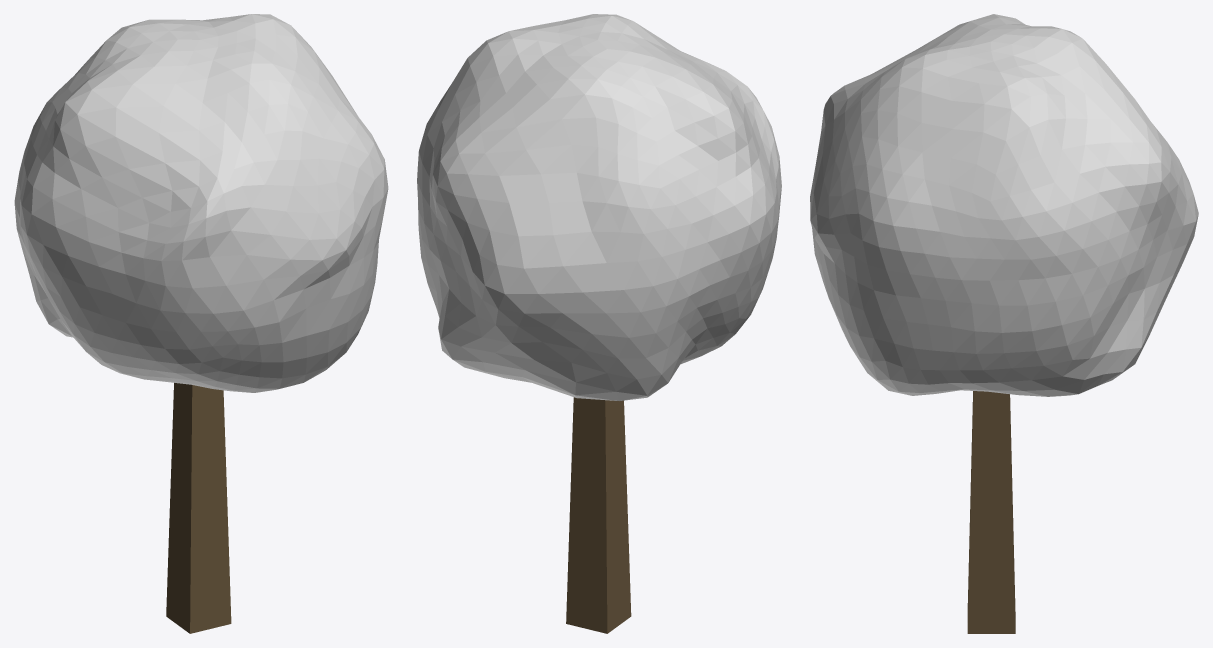
Rendered from small-tree-2.glb.
3 renders of one model, left to right at view 1: azimuth 30°, elevation 25°; view 2: azimuth 150°, elevation 25°; view 3: azimuth 270°, elevation 25°, orthographic.
Visible parts, largest first — view 1: small-tree-2; view 2: small-tree-2; view 3: small-tree-2.
Part boxes in pixels (<box>): small-tree-2: <box>14,14,388,633</box>; small-tree-2: <box>417,14,781,633</box>; small-tree-2: <box>810,14,1198,633</box>.
Size of the model in its own units: 0.1283 by 0.2198 by 0.1329.
